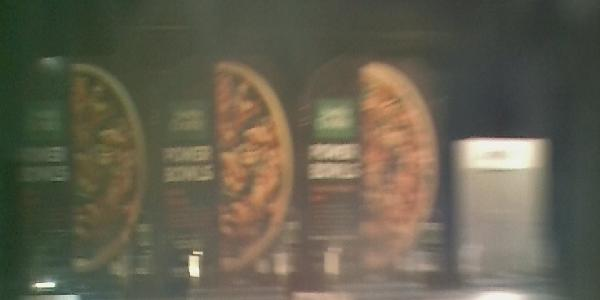pizza1: (4, 48, 165, 289), (306, 38, 460, 287), (157, 38, 307, 291)
